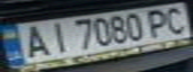0: (124, 10, 148, 42), (90, 15, 112, 47)
7: (69, 17, 97, 51)
8: (109, 12, 130, 44)
A: (15, 22, 54, 58)
C: (160, 3, 193, 35)
I: (42, 20, 72, 54)
P: (142, 7, 175, 37)
